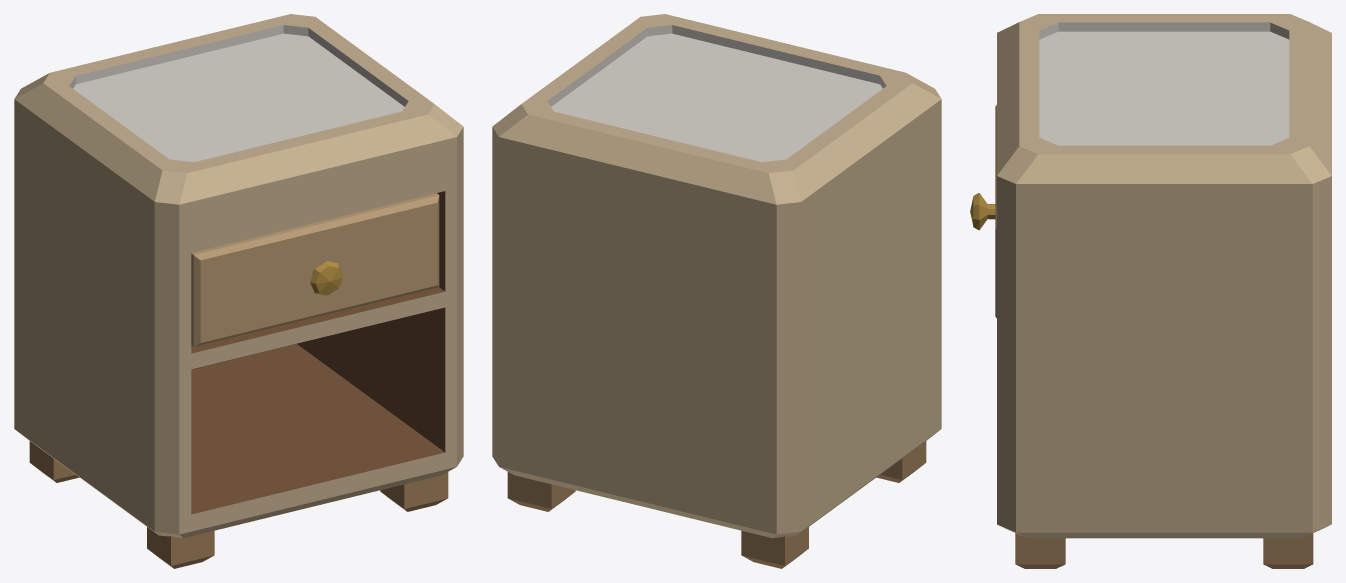
File: bedside-table-740c6b.glb
3 renders of one model, left to right at view 1: azimuth 30°, elevation 25°; view 2: azimuth 150°, elevation 25°; view 3: azimuth 270°, elevation 25°, orthographic. The views are drawn at different scales.
Parts seen in each view (by area): view 1: bedside-table, drawer; view 2: bedside-table; view 3: bedside-table, drawer.
Boxes of the visible parts, x1,y1,x2,y2 form: bedside-table: [14, 14, 463, 568]; drawer: [191, 193, 439, 346]; bedside-table: [492, 14, 941, 568]; bedside-table: [997, 14, 1331, 568]; drawer: [970, 105, 996, 318].
Size of the model in its own units: 0.45 by 0.55 by 0.432.
